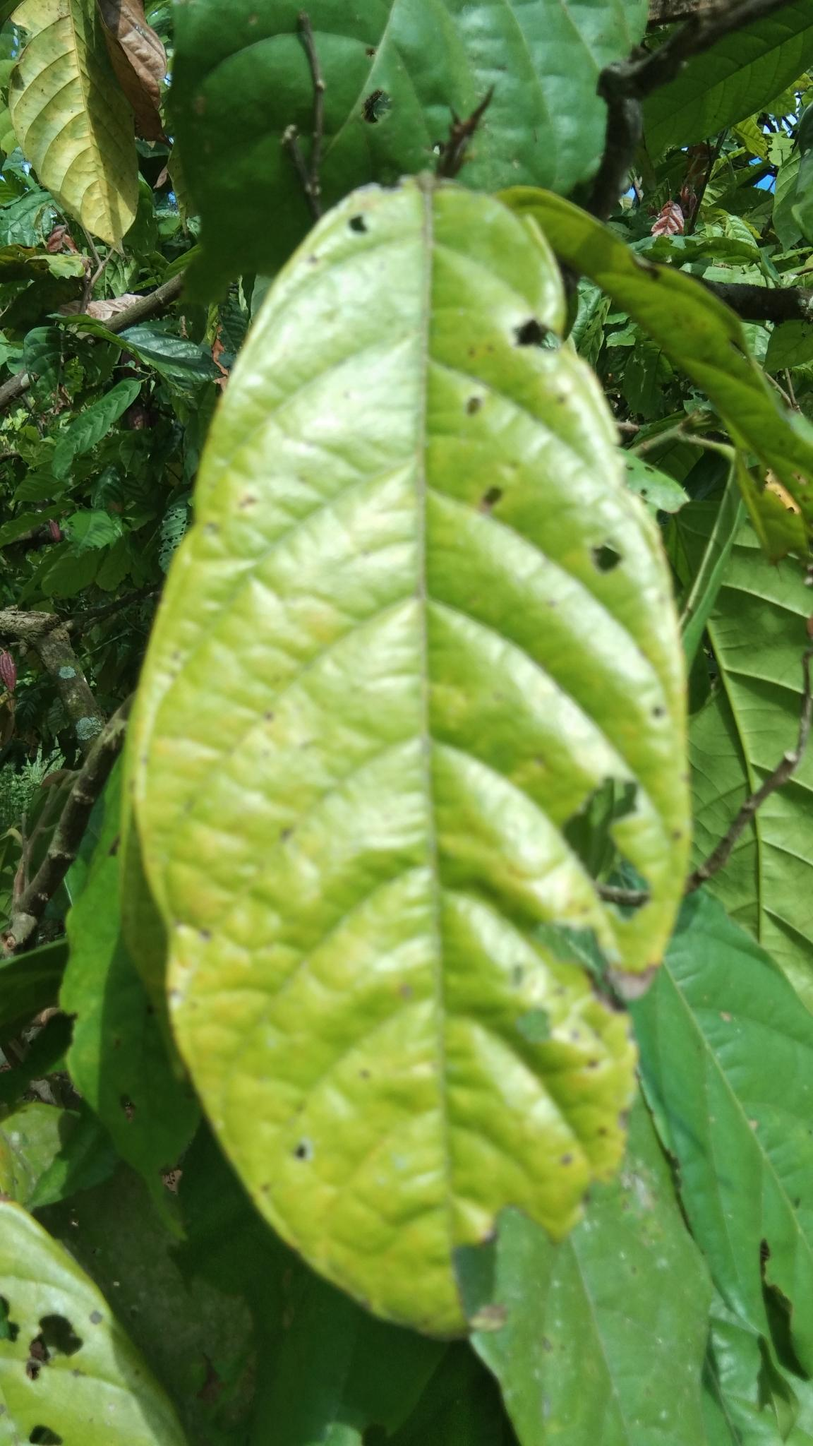Fosforo: (126, 175, 696, 1348)
